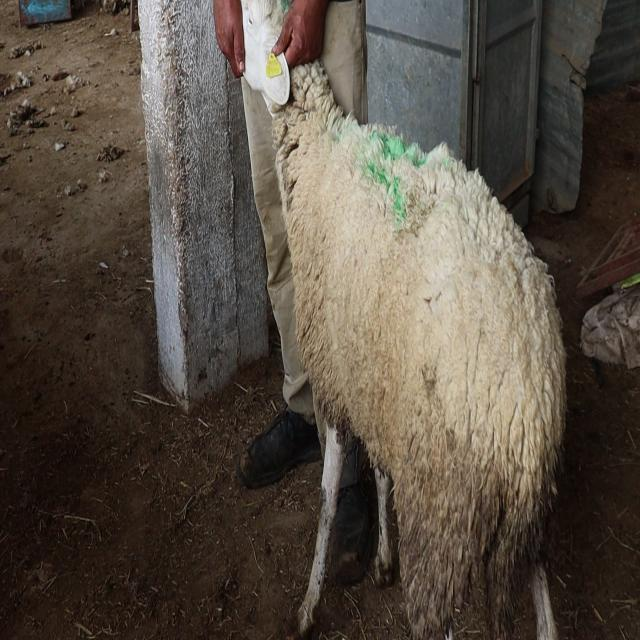Score_3: (241, 0, 566, 639)
